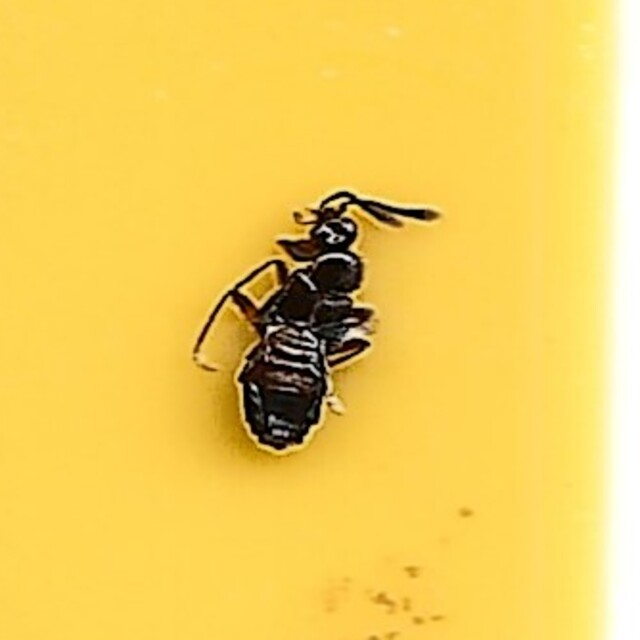Coleoptera: (192, 179, 448, 461)
